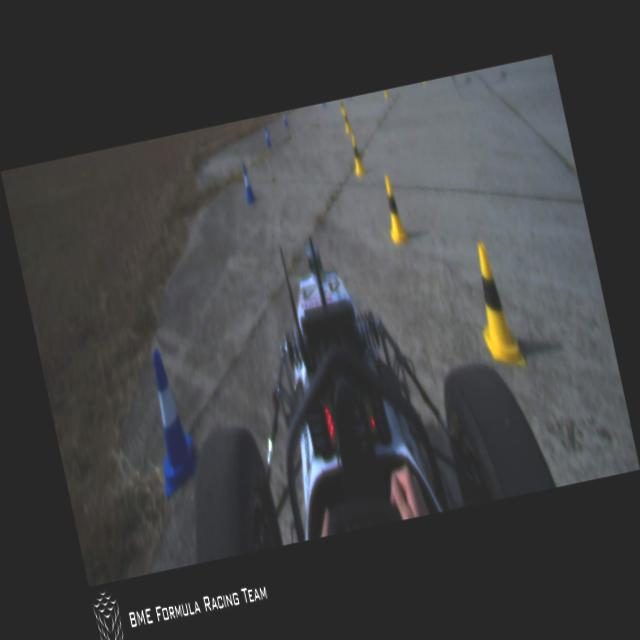blue_cone: (134, 345, 202, 500), (238, 162, 257, 206), (262, 124, 272, 148), (280, 110, 288, 128)
yellow_cone: (464, 240, 526, 374), (378, 172, 408, 245), (347, 133, 366, 177), (342, 110, 352, 134), (338, 98, 345, 115)
